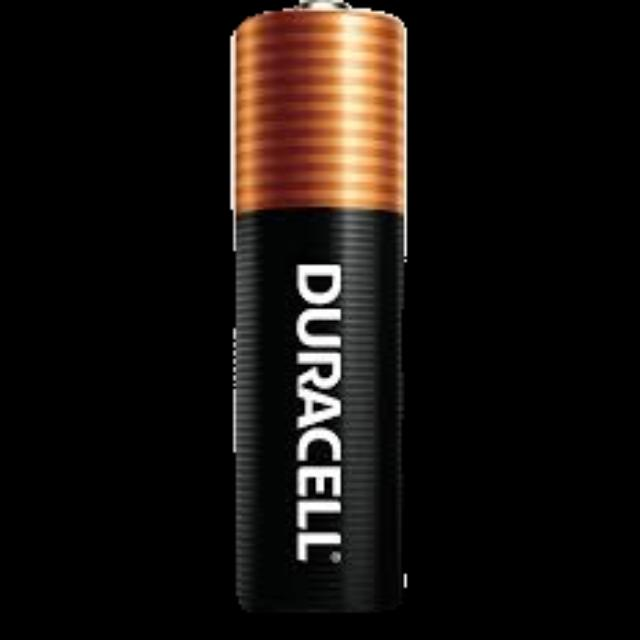Battery: (231, 3, 410, 618)
